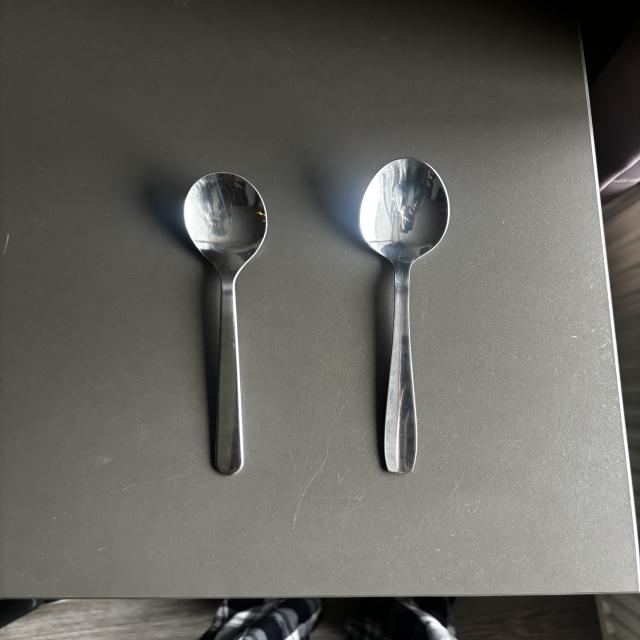spoon: (357, 156, 451, 478), (179, 171, 270, 480)
